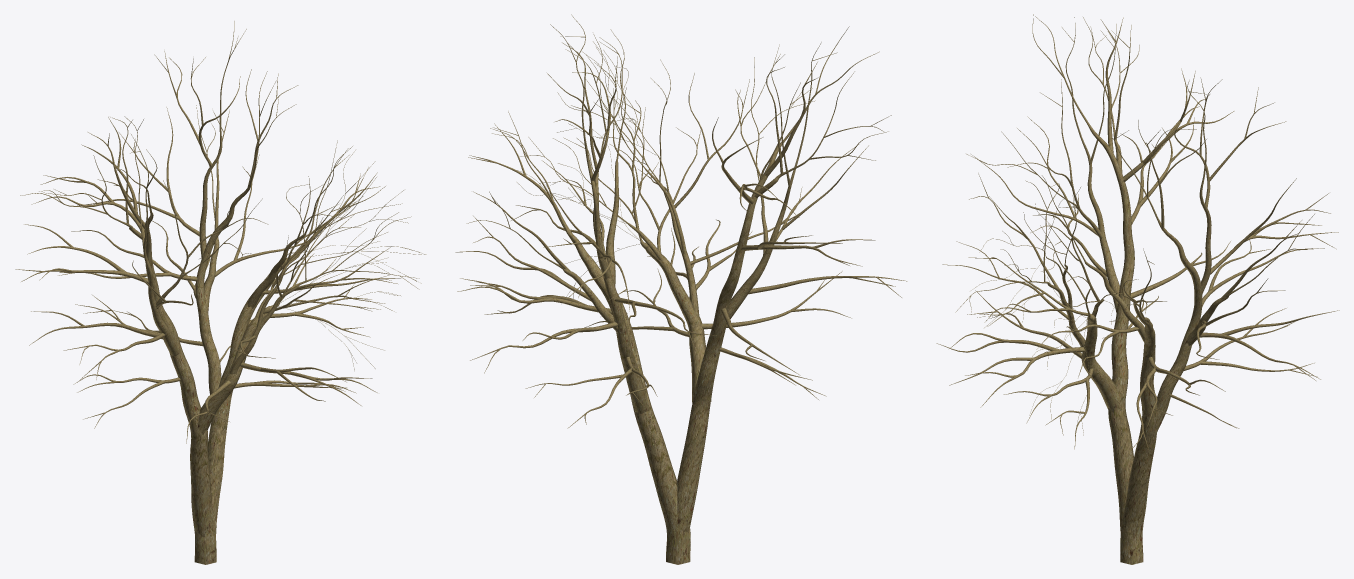
The model's file is easy_world_tree003.dae.
The picture shows the model from 3 angles, left to right: view 1: azimuth 30°, elevation 25°; view 2: azimuth 150°, elevation 25°; view 3: azimuth 270°, elevation 25°; orthographic projection. The views are drawn at different scales.
Visible parts, largest first — view 1: tree003; view 2: tree003; view 3: tree003.
Boxes of the visible parts, box(x1,y1,x2,y2) form: tree003: box(15, 21, 426, 564); tree003: box(455, 14, 907, 564); tree003: box(936, 14, 1339, 564).
Size of the model in its own units: 5.64 by 5.2 by 7.35.
Materials: 1 (1 with a texture image).
